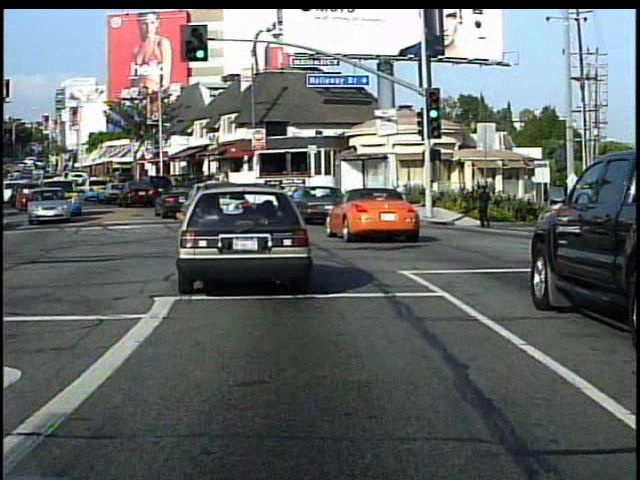person: (562, 184, 586, 245), (472, 182, 494, 229)
